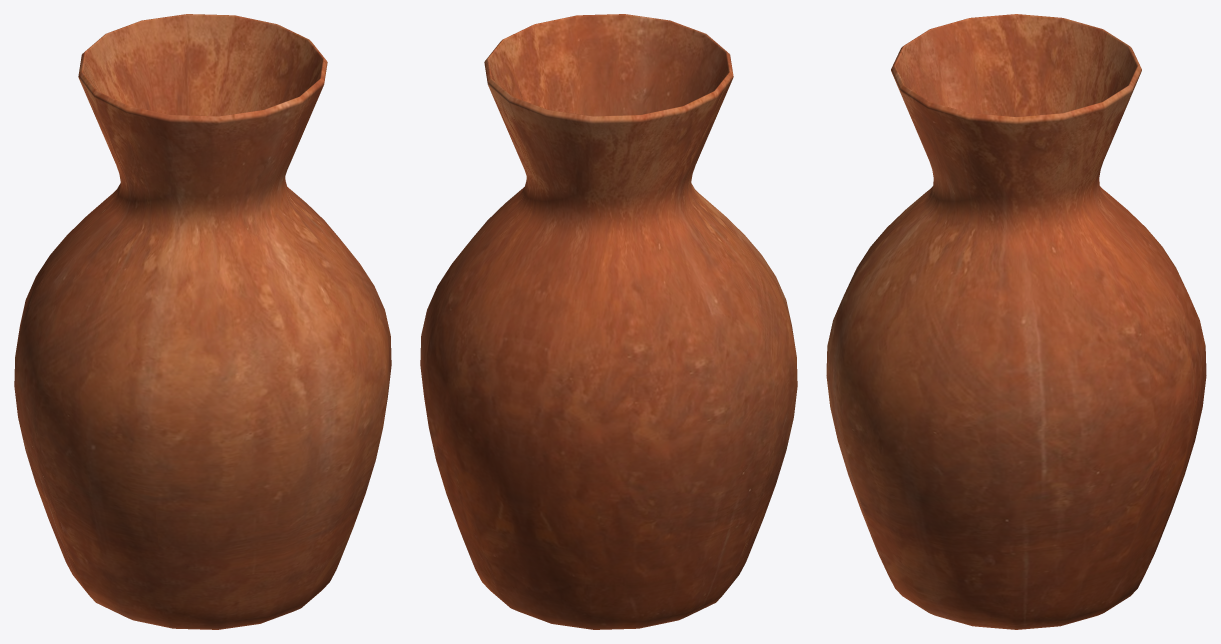
Rendered from Vase.FBX.
3 views of the same model, side by side, from view 1: azimuth 30°, elevation 25°; view 2: azimuth 150°, elevation 25°; view 3: azimuth 270°, elevation 25° (orthographic).
Parts seen in each view (by area): view 1: vase; view 2: vase; view 3: vase.
Boxes of the visible parts, box(x1,y1,x2,y2) form: vase: box(14, 14, 391, 629); vase: box(420, 14, 797, 629); vase: box(826, 14, 1206, 629).
Size of the model in its own units: 20.14 by 30.28 by 20.14.
1 material, 1 textured.
